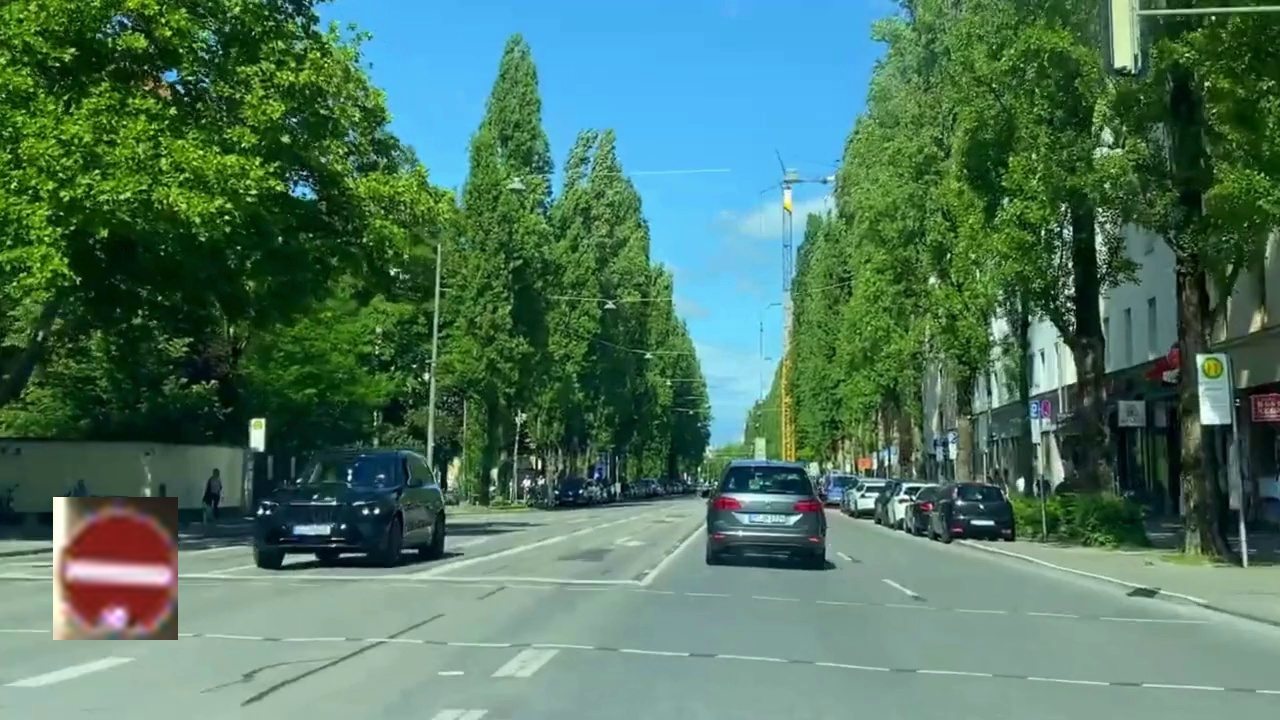No entry: (53, 497, 178, 640)
